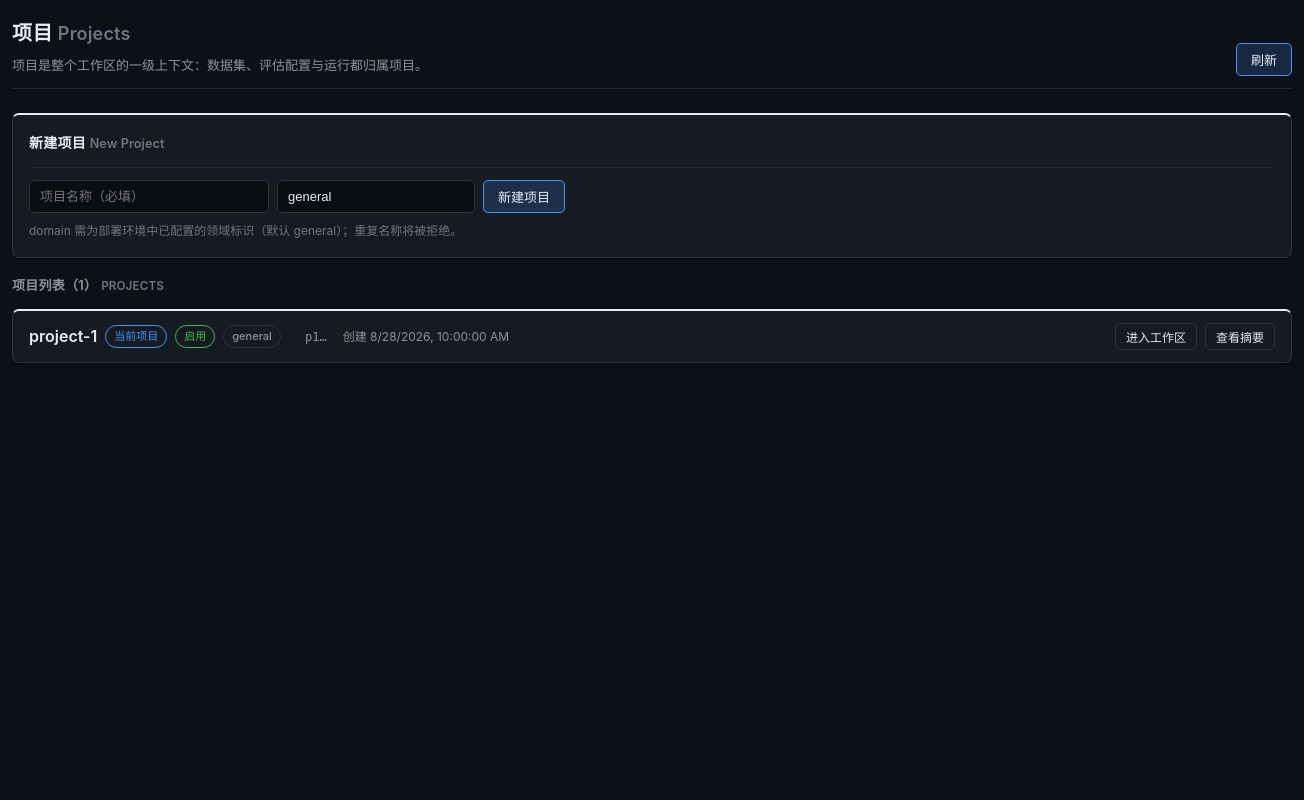
Scenario: ProjectsPage (Project Workspace) › 创建项目走真实 POST /api/projects 并刷新列表
Type "finance-eval" into the field with test id "project-name-input" at coordinates (149, 196), box [29,180,269,213]
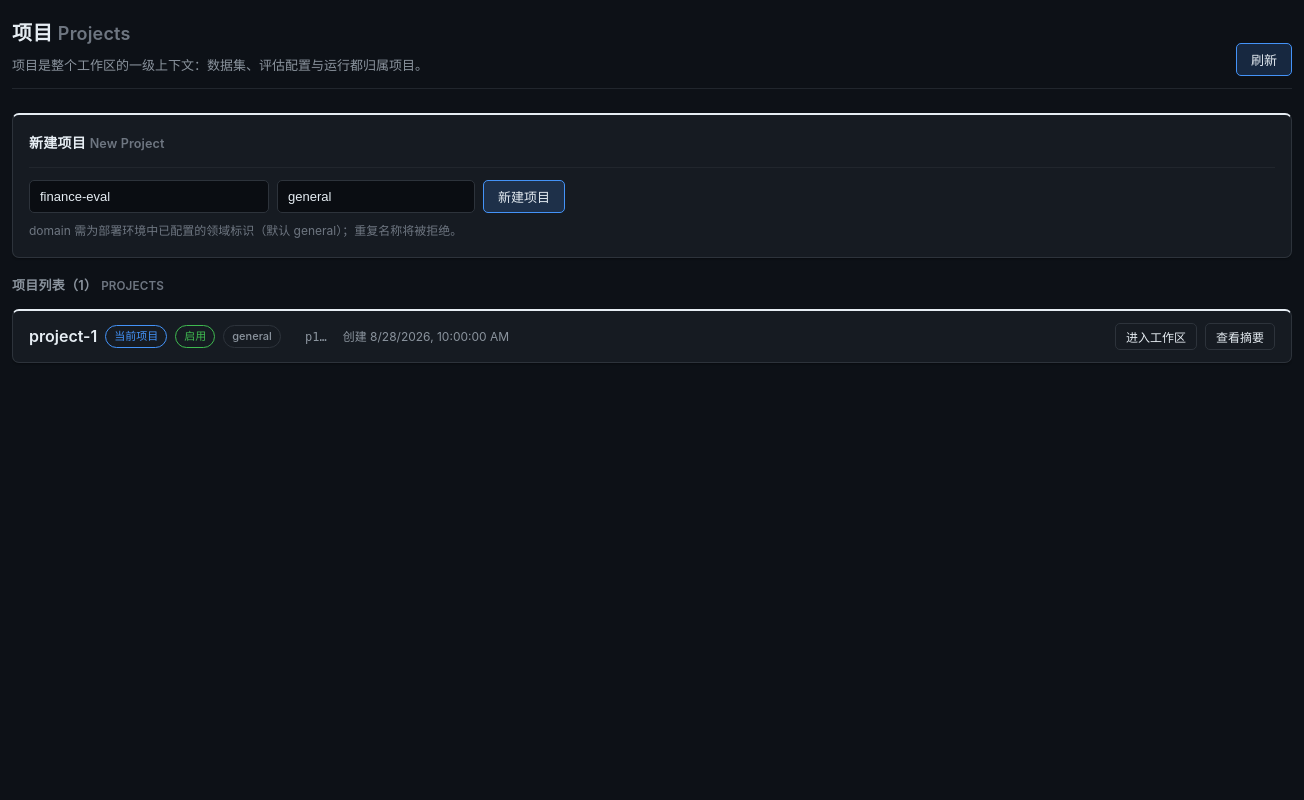
Click the button with test id "project-create-submit" at coordinates (524, 196), box [483,180,565,213]
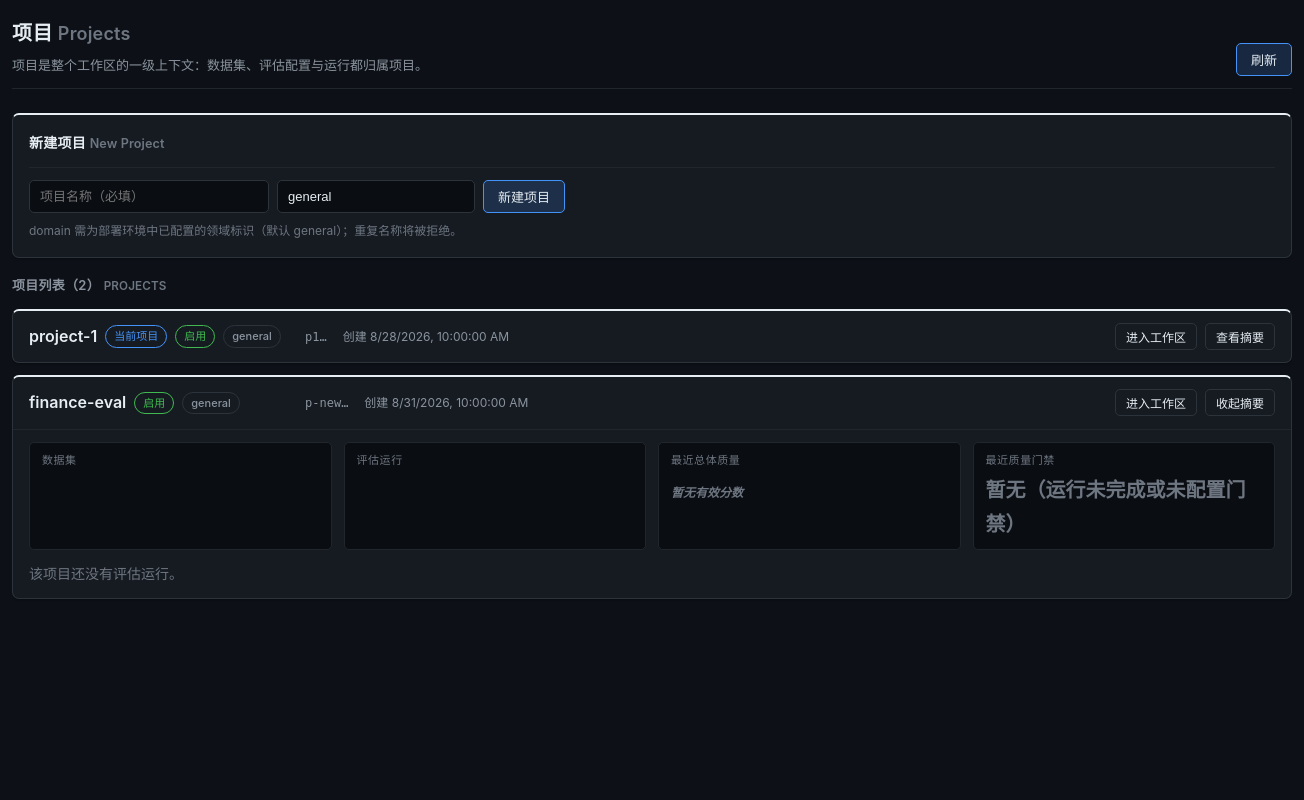
Now the text "finance-eval" is shown, box [29,389,126,417]
